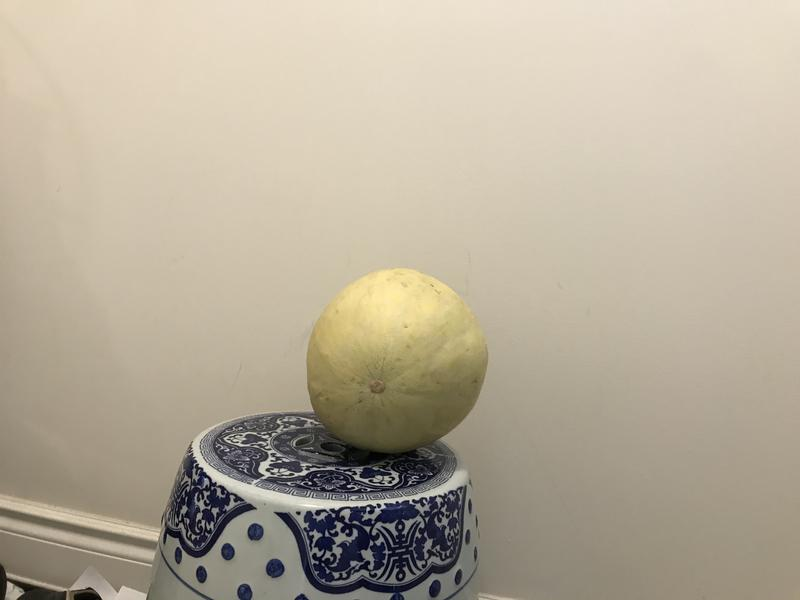honeydew: (297, 257, 500, 465)
